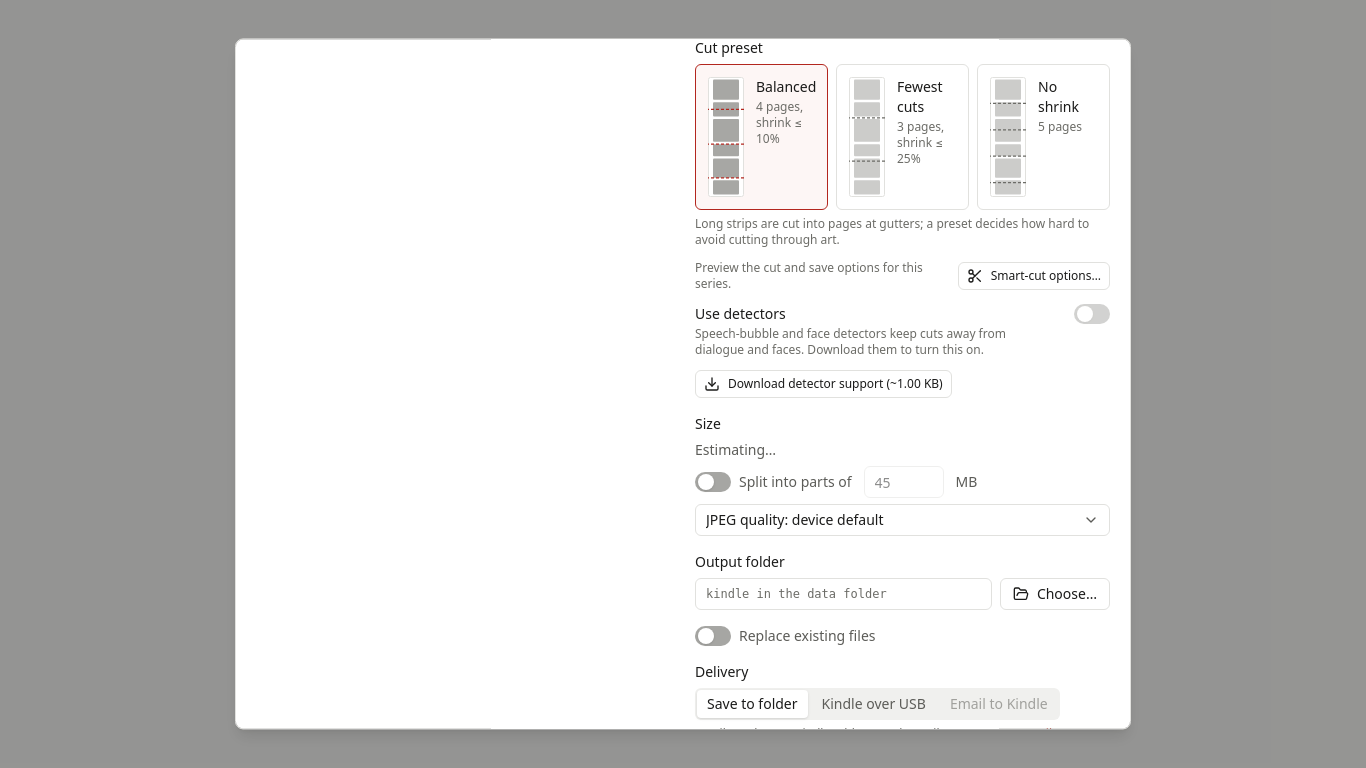
Test: export dialog: detector support › never starts the download when Cancel is clicked before it begins
This screenshot has width=1366, height=768.
(page scrolled)
Click the button "Download detector support (~1.00 KB)" at (823,384), box [695,370,952,398]
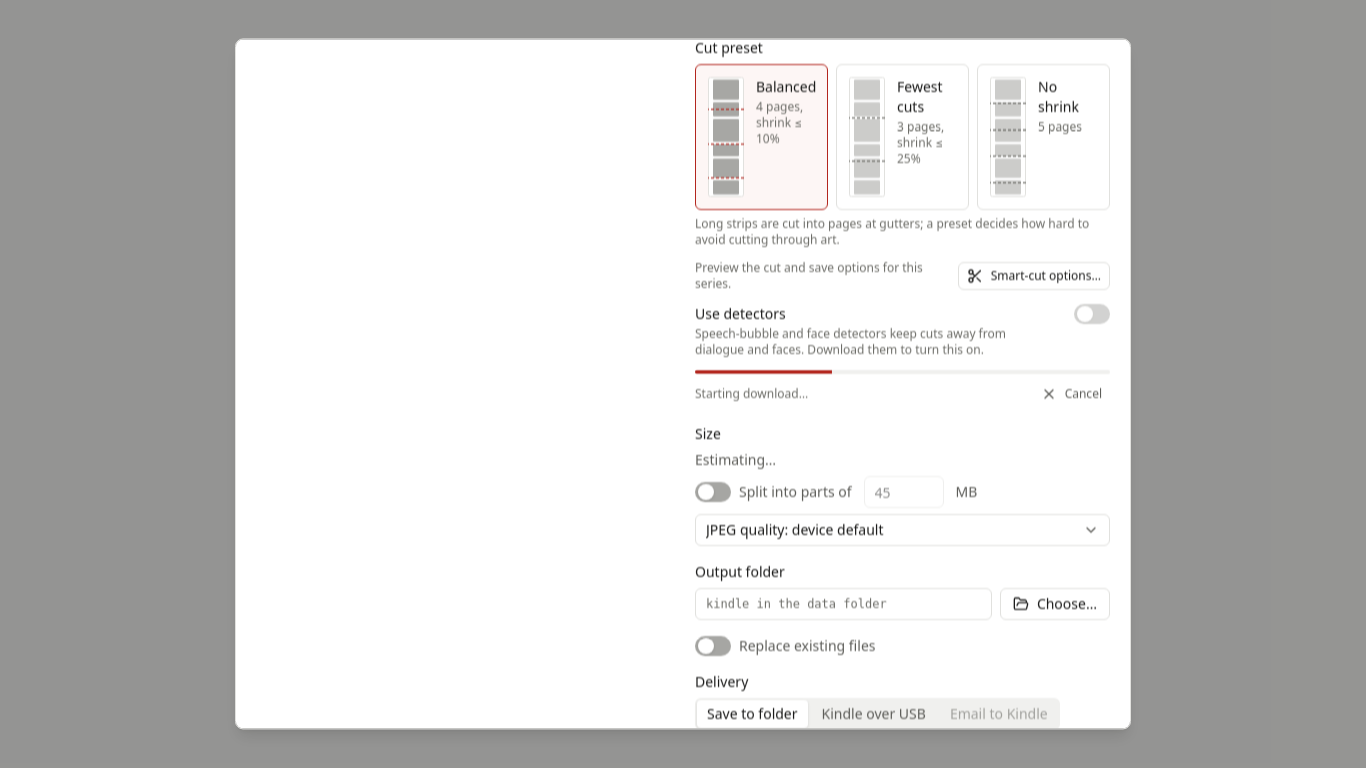
Click the button "Cancel" at (1071,394), box [1033,380,1110,408]
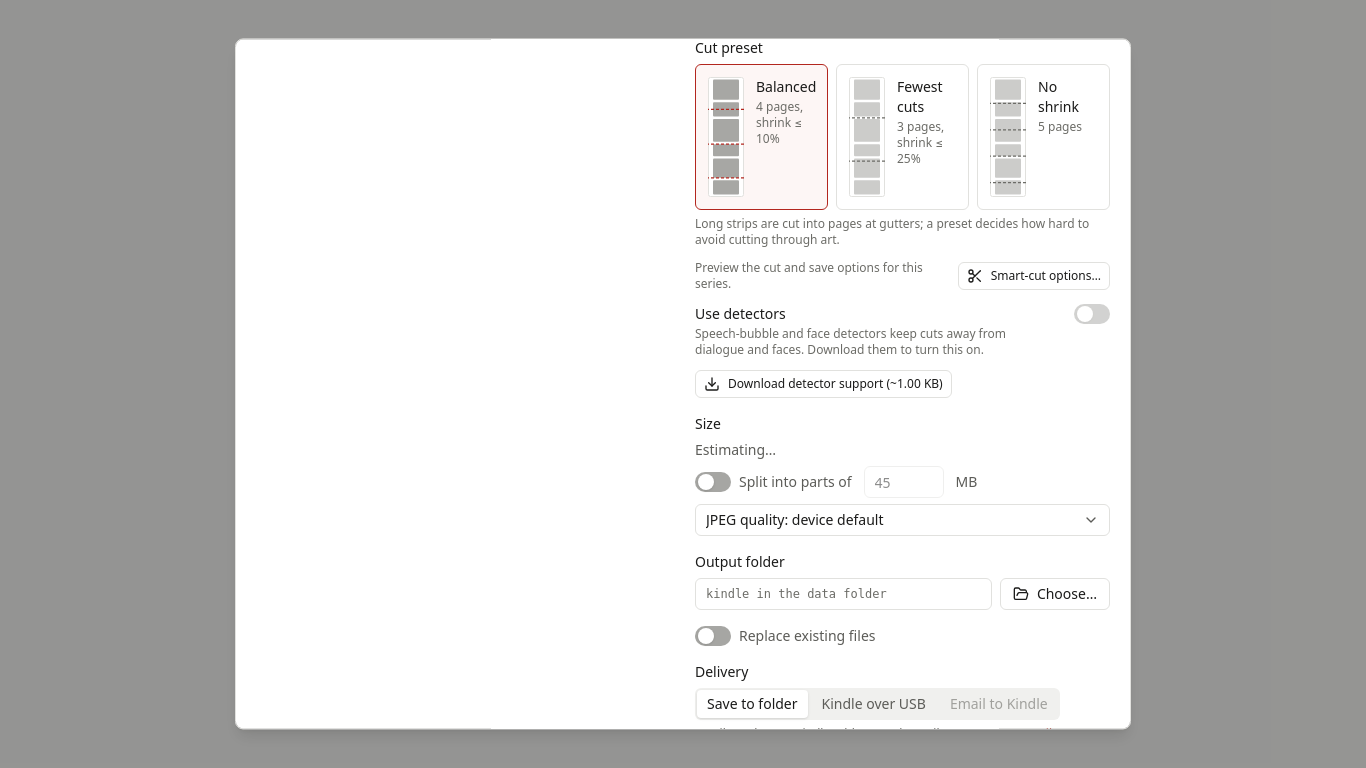
expect the button "Download detector support (~1.00 KB)" is shown: met, box [695,370,952,398]
